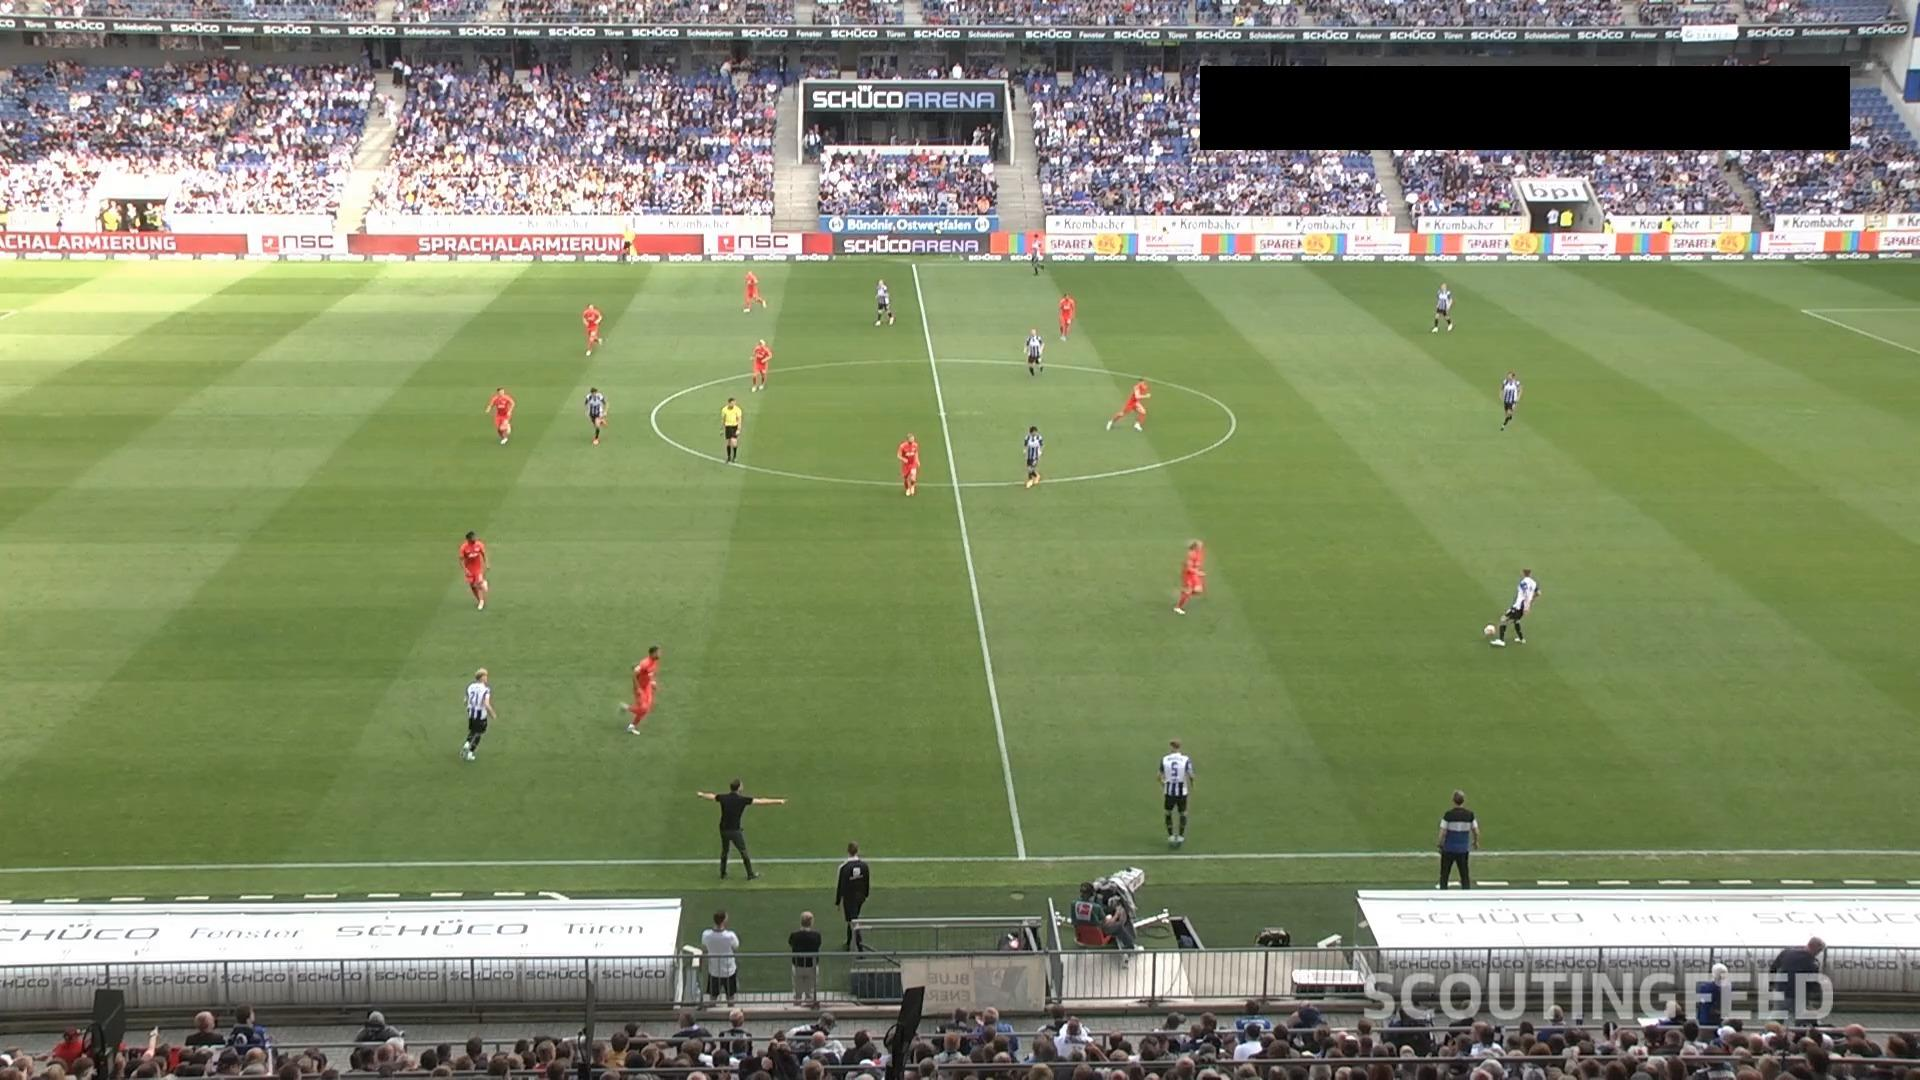ball: (1484, 624, 1497, 637)
